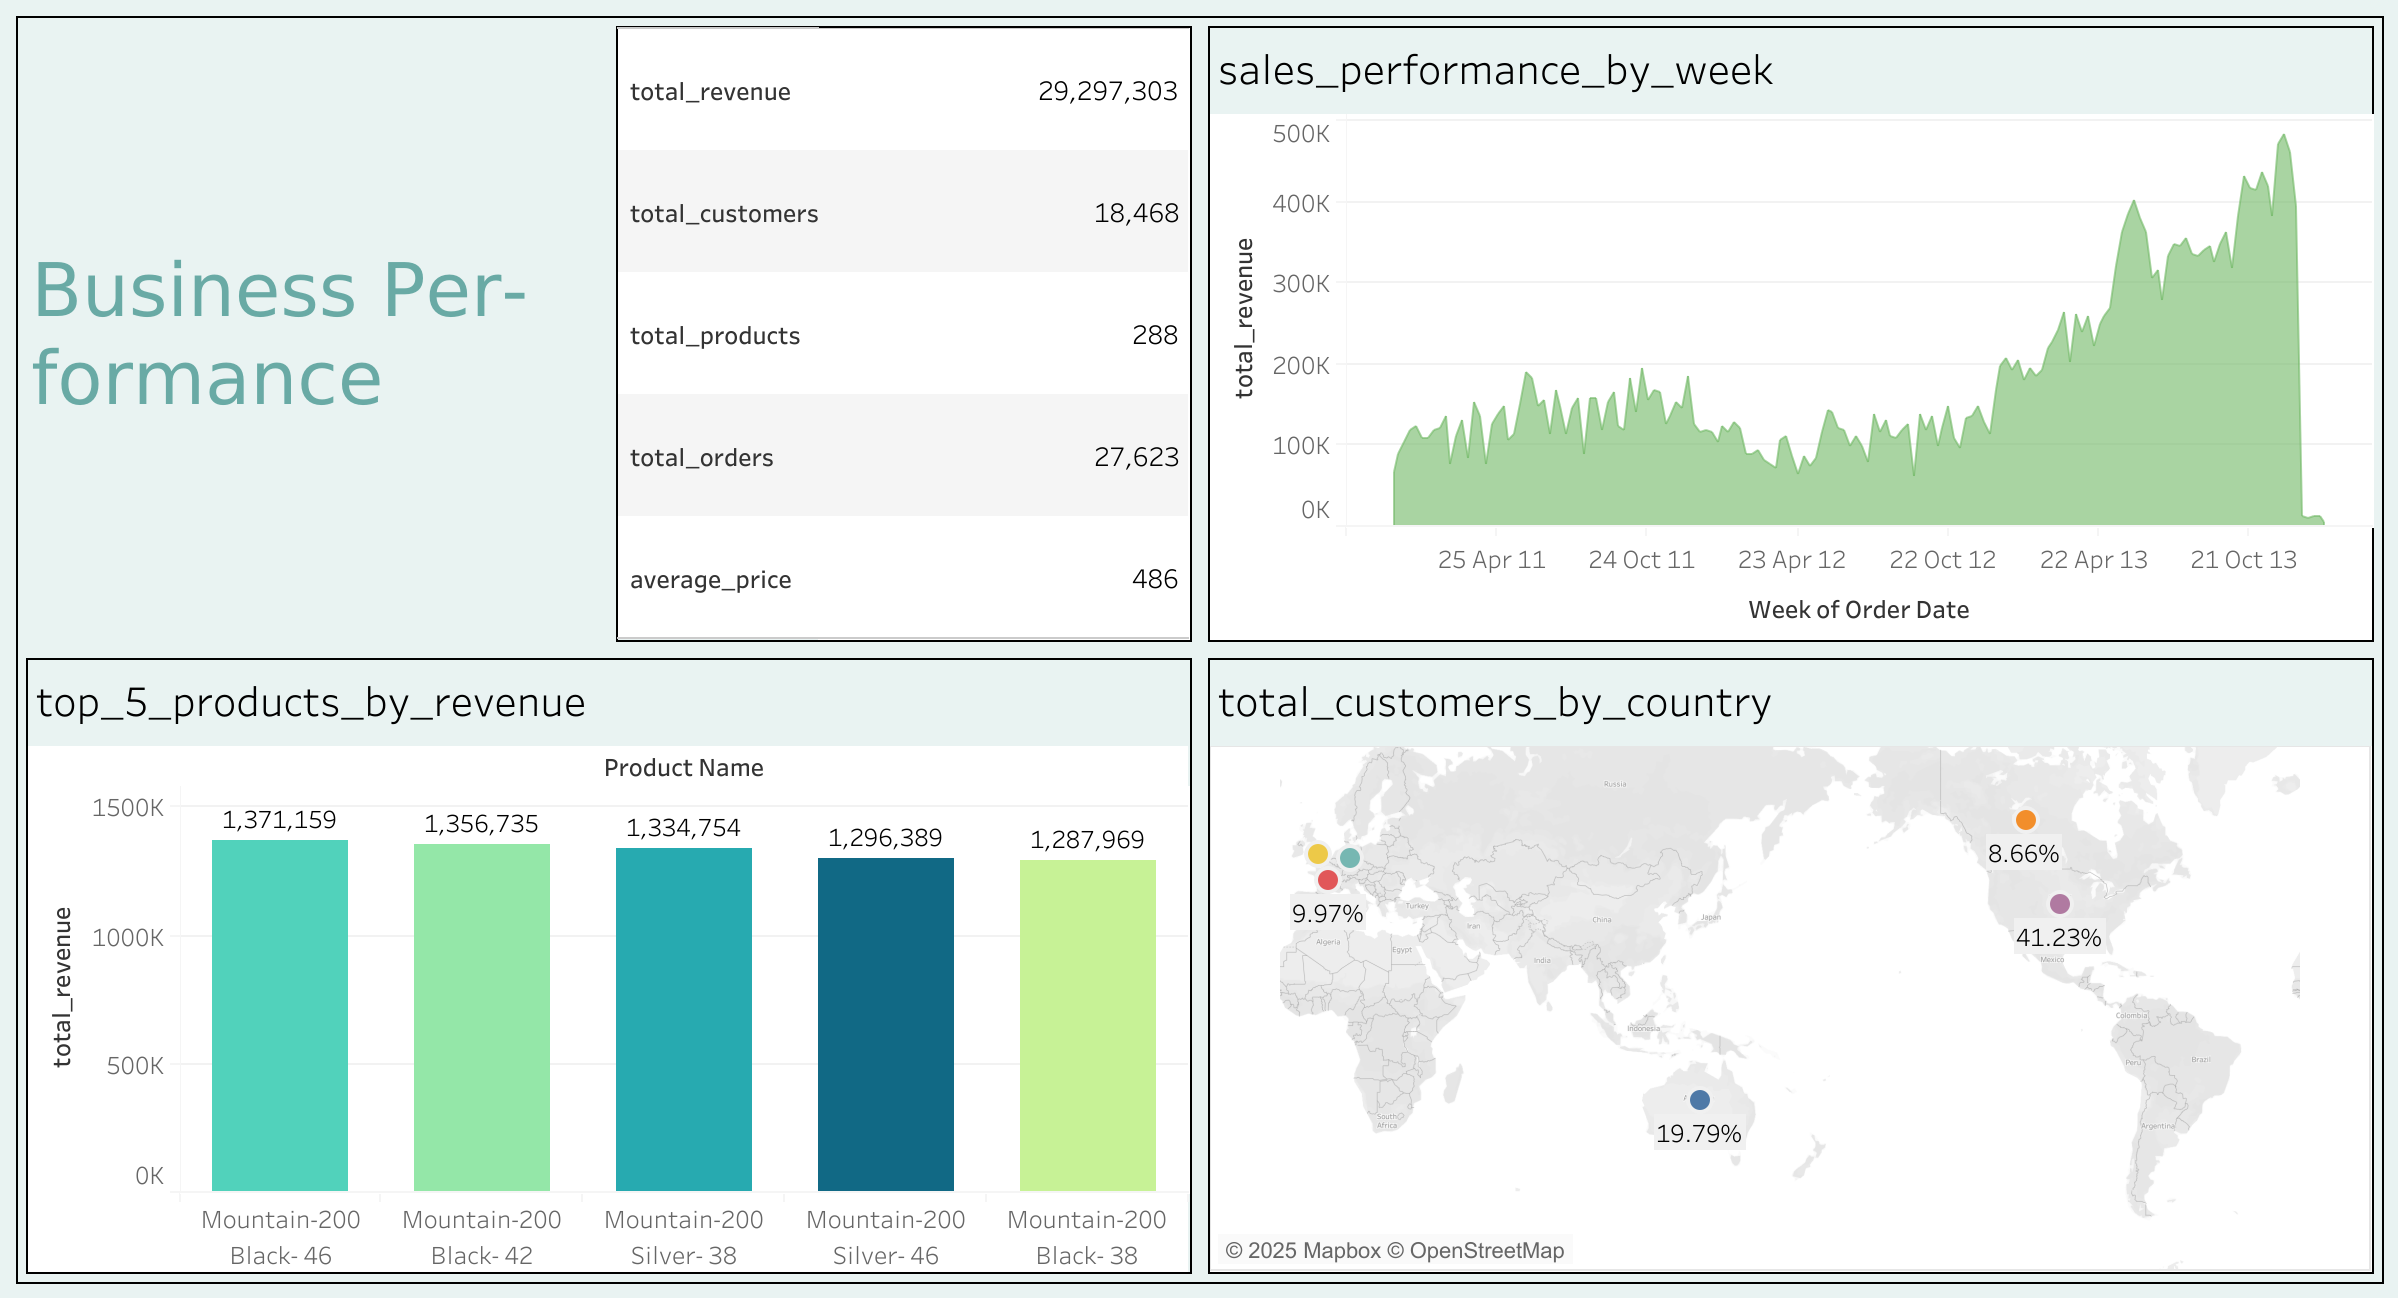

This screenshot's page, from the dashboard's own definition file:
{"tool":"tableau","page":{"name":"Business_Performance","canvas":[1200,650],"ordinal":0},"visuals":[{"type":"text","box":[9,9,295.5,316]},{"type":"worksheet","title":"key_business_metrics","mark":"Automatic","box":[304.5,9,295.5,316]},{"type":"worksheet","title":"sales_performance_by_week","mark":"Area","rows":["Calculation_1045679588011581440"],"cols":["order_date"],"box":[600,9,591,316]},{"type":"worksheet","title":"top_5_products_by_revenue","mark":"Automatic","rows":["Calculation_1045679588011581440"],"cols":["product_name"],"box":[9,325,591,316]},{"type":"worksheet","title":"total_customers_by_country","mark":"Automatic","box":[600,325,591,316]}]}

Visuals, with their boxes in screenshot pixels (x1, y1, x2, y2), scaled from the page's 1200x650 canvas onto the 2398x1298 screenshot:
text: locate(18, 18, 608, 649)
"key_business_metrics" worksheet: locate(608, 18, 1199, 649)
"sales_performance_by_week" worksheet (Area marks): locate(1199, 18, 2380, 649)
"top_5_products_by_revenue" worksheet: locate(18, 649, 1199, 1280)
"total_customers_by_country" worksheet: locate(1199, 649, 2380, 1280)
